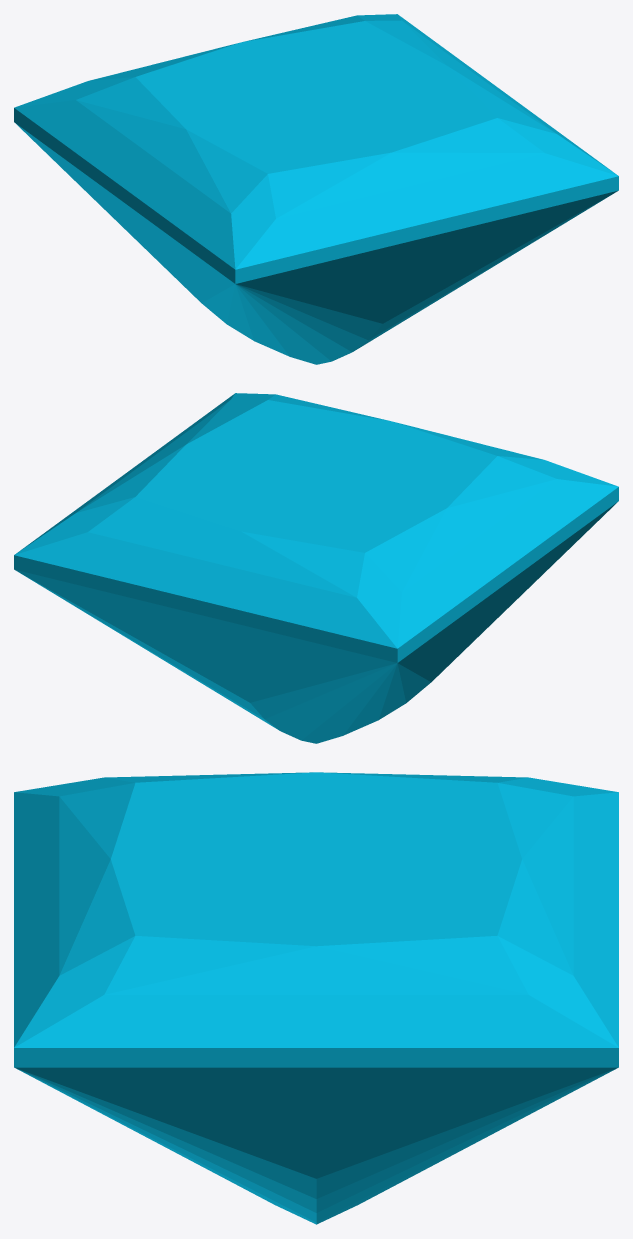
The model's file is Head_No Halo_Princess_3.0ct_Diamond.glb.
3 renders of one model, top to bottom at view 1: azimuth 30°, elevation 25°; view 2: azimuth 150°, elevation 25°; view 3: azimuth 270°, elevation 25°, orthographic. The views are drawn at different scales.
Bounding box in the file's own units: 0.00803 × 0.00535 × 0.00803.
